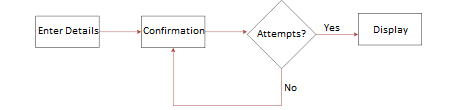arrow: (169, 47, 284, 108), (315, 31, 359, 37), (203, 29, 247, 34), (99, 29, 141, 33)
decision: (246, 1, 320, 70)
process: (357, 11, 425, 48), (139, 14, 208, 49), (34, 14, 101, 49)
text: (37, 24, 100, 36), (255, 28, 309, 40), (141, 25, 203, 35), (372, 23, 411, 37), (322, 21, 341, 31), (284, 83, 298, 92)
